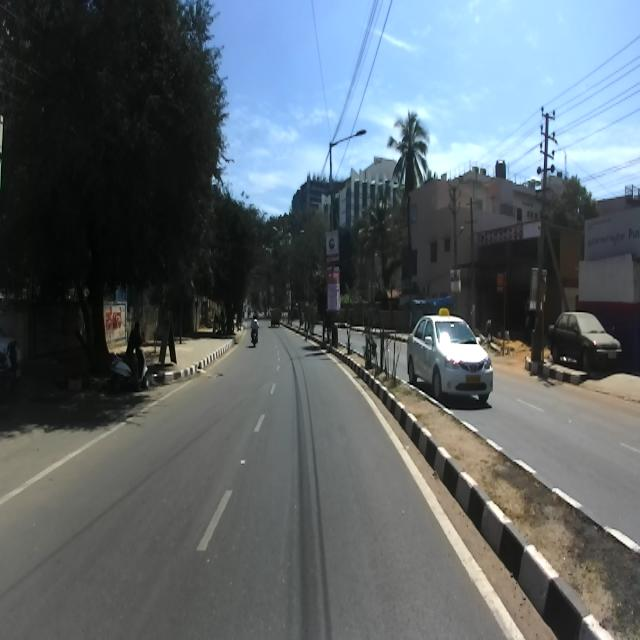motorcycle ahead at: (102, 319, 152, 404)
